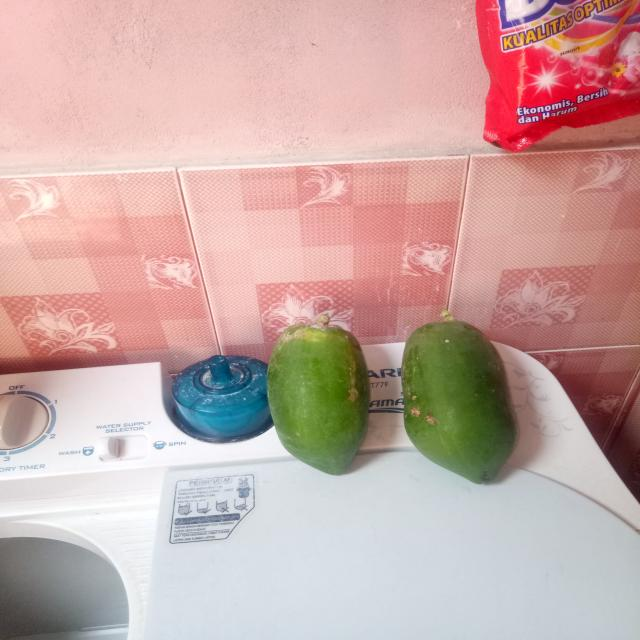Pepaya unrippen: (399, 312, 523, 480), (259, 318, 374, 471)
